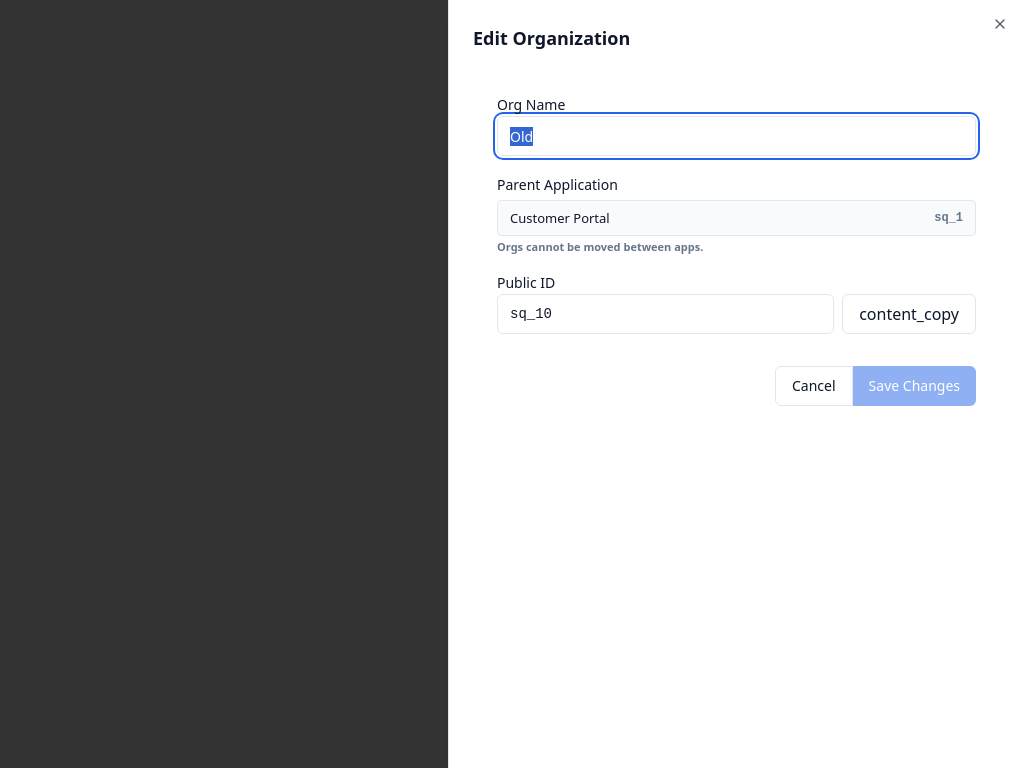
it: OrgEditDrawer › disables Save when no fields are dirty and enables after edit
Check: the button "Save Changes" is disabled, box [853, 366, 976, 406]
Replace the text in the field labelled "Org Name" with "New" at (736, 136), box [497, 116, 976, 156]
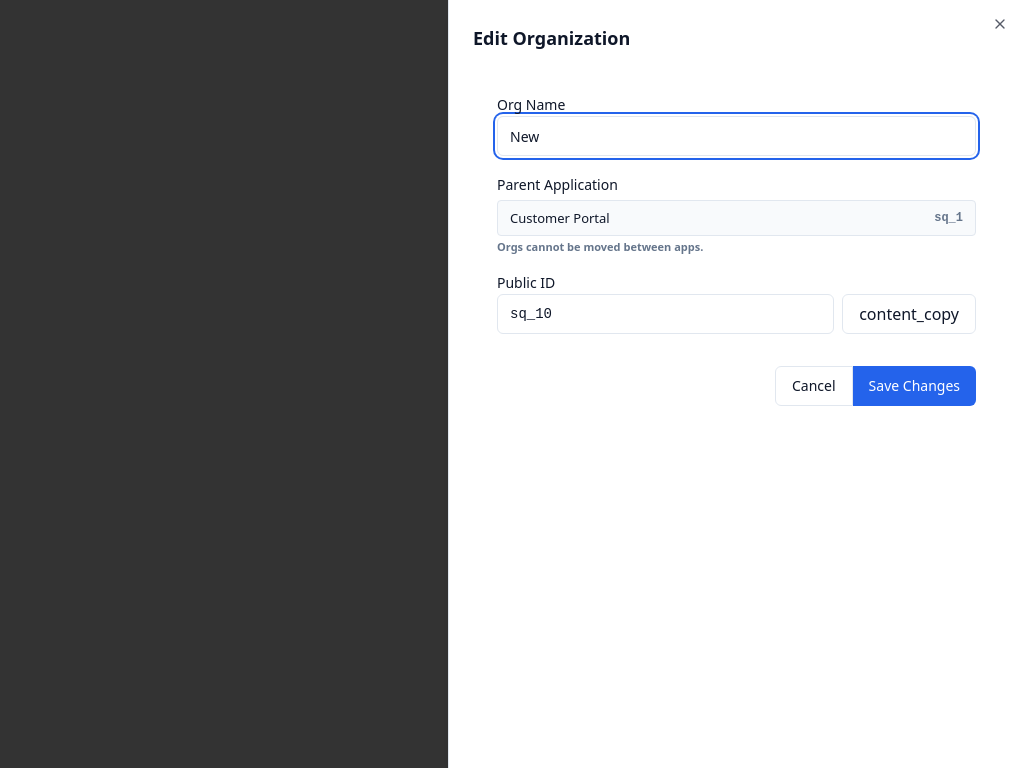
Check: the button "Save Changes" is enabled, box [853, 366, 976, 406]
